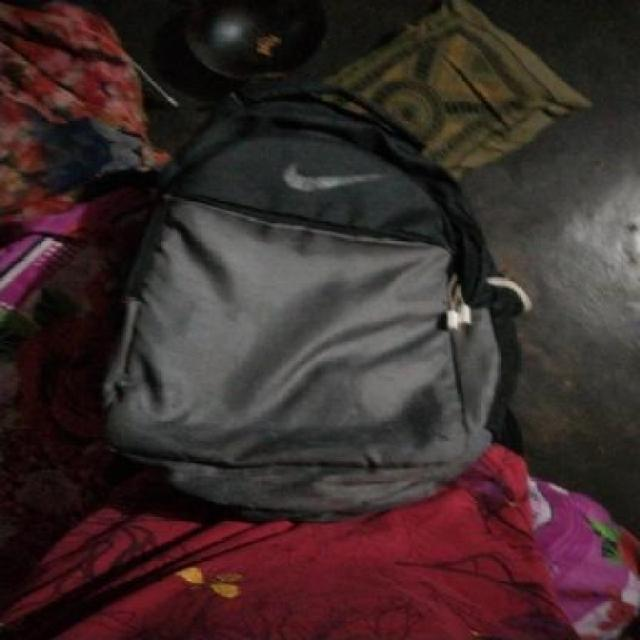backpack: (92, 69, 537, 525)
